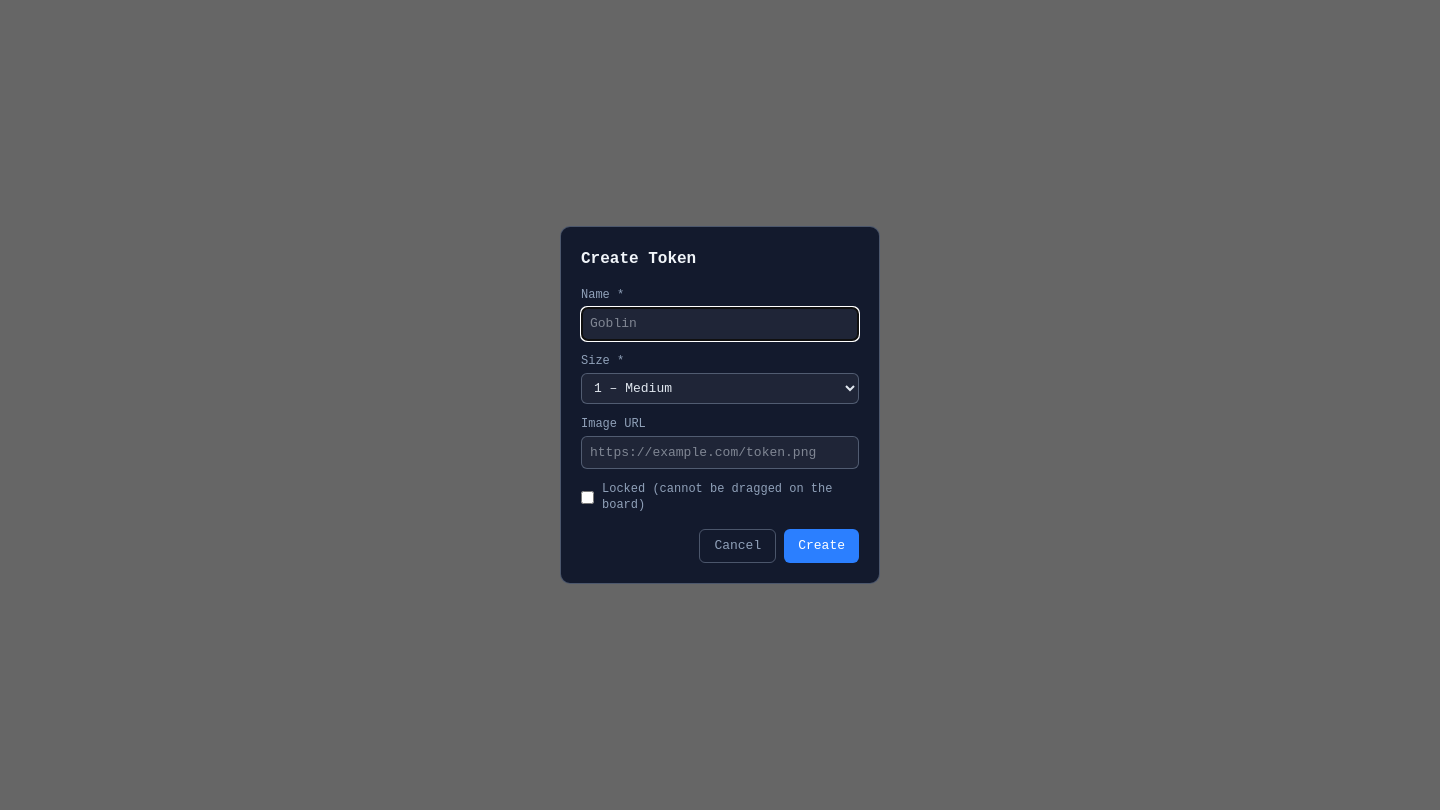
Scenario: CreateTokenModal › form validation errors › shows a name validation error when name is empty and form is submitted
Step 1. Click the button "Create" → (822, 546), box [784, 529, 859, 563]
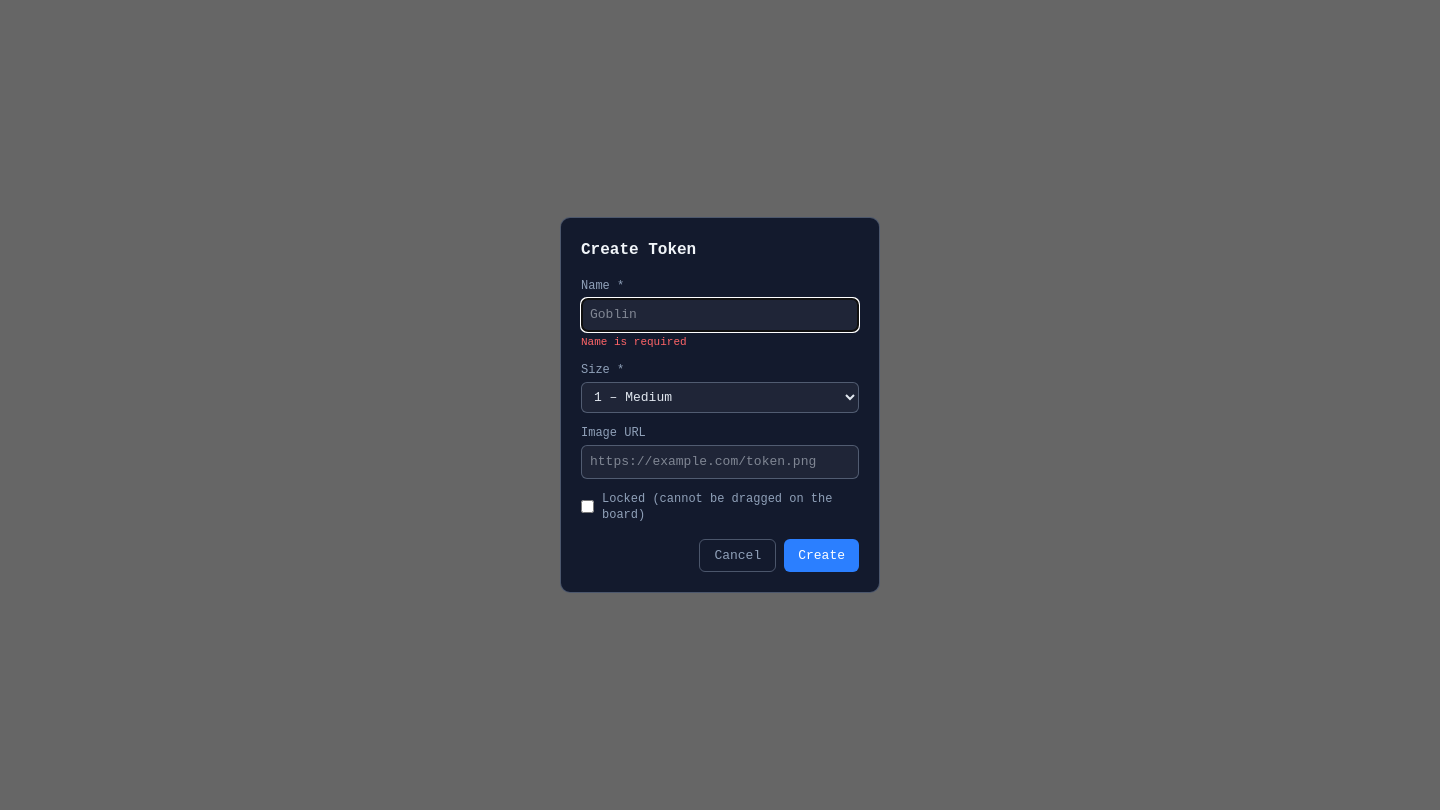
Now the text "Name is required" is shown, box [581, 336, 687, 348]
